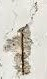Exposed reinforcement: (20, 33, 25, 76)
Spalling: (2, 22, 34, 76)
